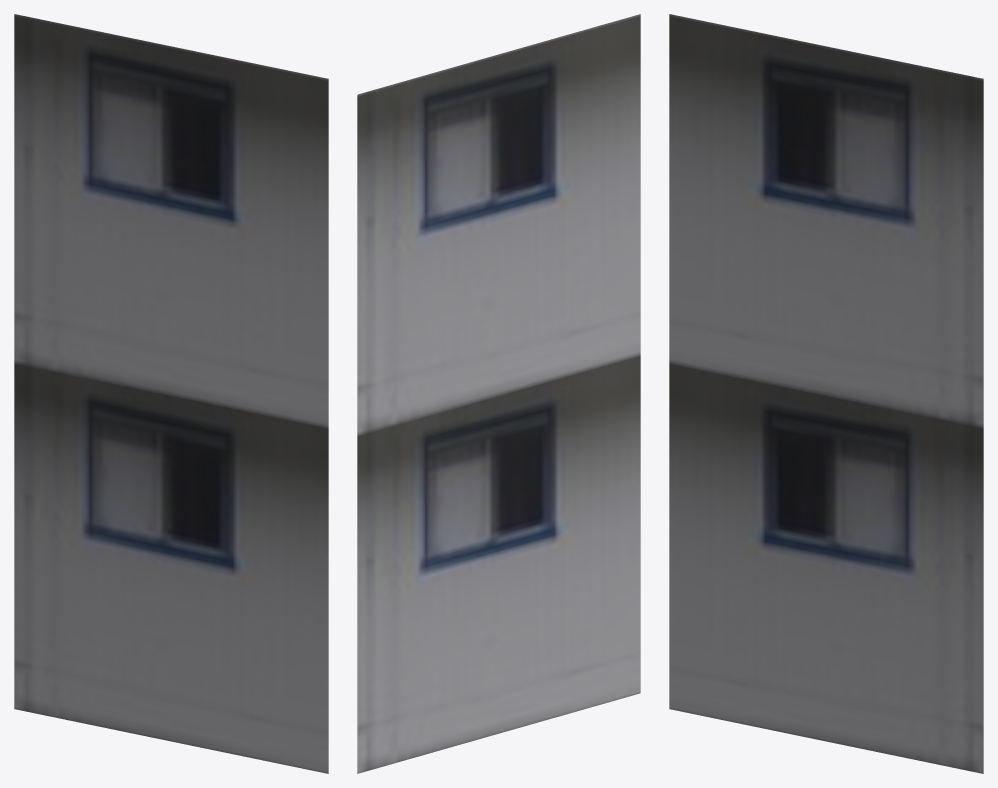
The model's file is ResTex__5150.fbx.
3 views of the same model, side by side, from view 1: azimuth 90°, elevation 25°; view 2: azimuth 150°, elevation 25°; view 3: azimuth 270°, elevation 25° (orthographic). The views are drawn at different scales.
Parts seen in each view (by area): view 1: CityEngineMaterial_9_m; view 2: CityEngineMaterial_9_m; view 3: CityEngineMaterial_9_m.
Part boxes in pixels (left/top/right/bottom): CityEngineMaterial_9_m: left=14, top=14, right=328, bottom=773; CityEngineMaterial_9_m: left=357, top=14, right=640, bottom=773; CityEngineMaterial_9_m: left=669, top=14, right=983, bottom=773.
Bounding box in the file's own units: 1.2 × 6 × 2.46.
1 material, 1 textured.
